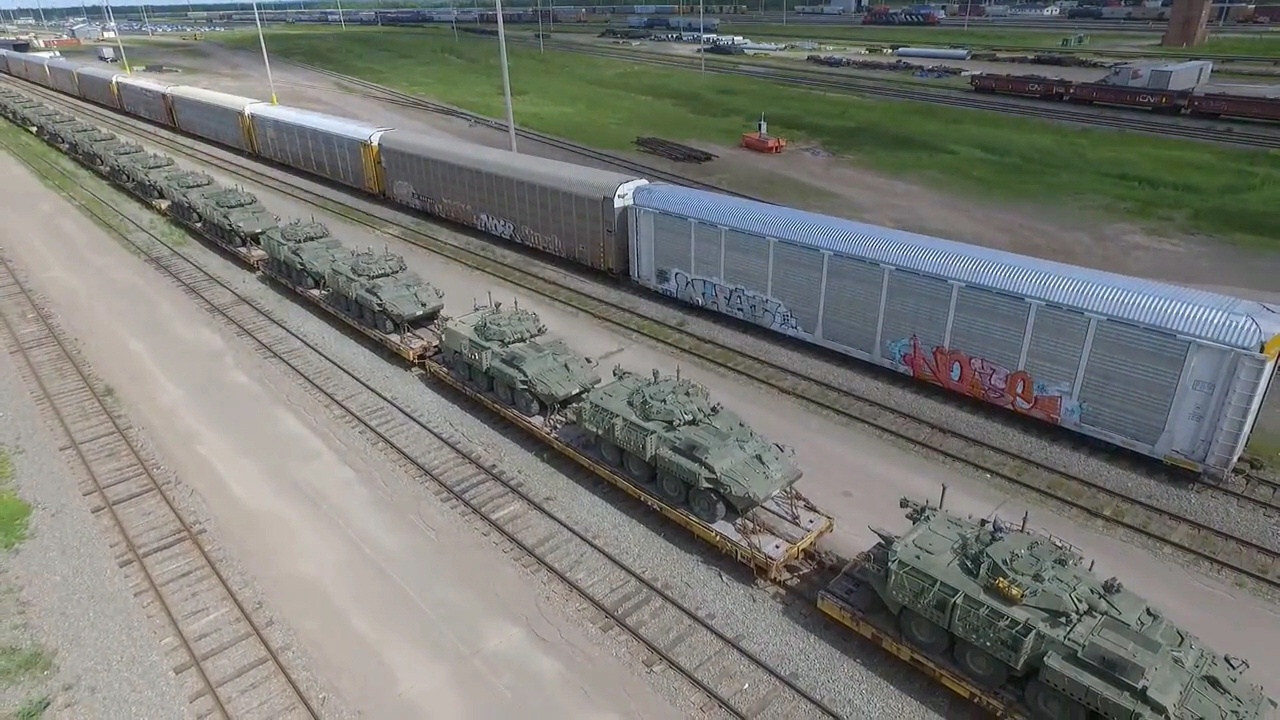tank: (879, 487, 1274, 720), (566, 366, 797, 526), (430, 298, 602, 430), (320, 246, 444, 337), (256, 222, 339, 297), (203, 186, 282, 257), (165, 171, 225, 223)
